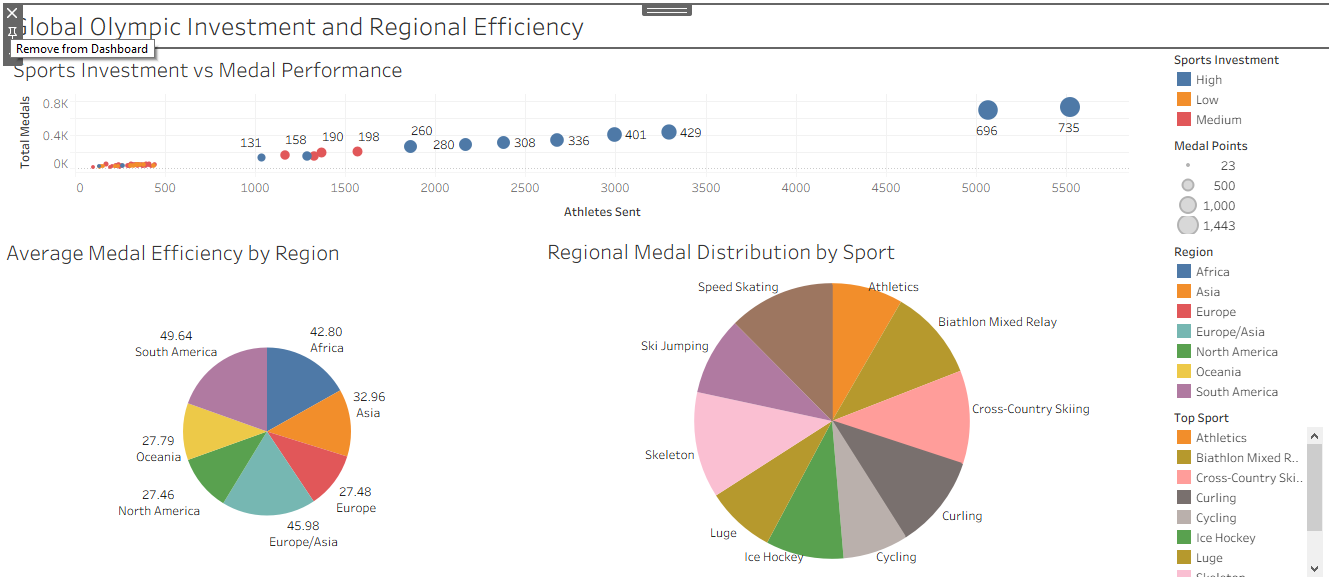

Layout of this report page (visuals, bound fields, positions):
{"tool":"tableau","page":{"name":"Global Olympic Investment and Regional Efficiency","canvas":[1000,1000],"units":"permille","ordinal":1},"visuals":[{"type":"title","box":[6.7,13.5,986.5,70.9]},{"type":"legend","title":"Sports Investment vs Medal Performance","param":"[federated.1xuazip0j6wt5410oi3vc1h66eq4].[none:sports_investment:nk]","box":[859.5,84.5,133.7,145.3]},{"type":"worksheet","title":"Sports Investment vs Medal Performance","mark":"Circle","rows":["total_medals"],"cols":["athletes_sent"],"box":[8.7,91.2,836.4,297.3]},{"type":"legend","title":"Sports Investment vs Medal Performance","param":"[federated.1xuazip0j6wt5410oi3vc1h66eq4].[sum:medal_points:qk]","box":[859.5,229.7,133.7,179.1]},{"type":"worksheet","title":"Regional Medal Distribution by Sport","mark":"Pie","box":[407.8,398.7,431.2,562.5]},{"type":"worksheet","title":"Average Medal Efficiency by Region","mark":"Pie","box":[3.5,400.3,395.7,594.6]},{"type":"legend","title":"Average Medal Efficiency by Region","param":"[federated.1xuazip0j6wt5410oi3vc1h66eq4].[none:region:nk]","box":[859.5,408.8,133.7,280.4]},{"type":"legend","title":"Regional Medal Distribution by Sport","param":"[federated.1xuazip0j6wt5410oi3vc1h66eq4].[none:top_sport:nk]","box":[859.5,689.2,133.7,297.3]}]}

Visuals, with their boxes on the dashboard's canvas, which has no fixed pixel size, in thousandths of its width and height (x1, y1, x2, y2). These are canvas units, not pixel positions in the 1329x587 screenshot, which may show the page scaled, cropped or inside an application window:
title: pyautogui.locateOnScreen(7, 14, 993, 84)
"Sports Investment vs Medal Performance" legend: pyautogui.locateOnScreen(860, 84, 993, 230)
"Sports Investment vs Medal Performance" worksheet (Circle marks): pyautogui.locateOnScreen(9, 91, 845, 388)
"Sports Investment vs Medal Performance" legend: pyautogui.locateOnScreen(860, 230, 993, 409)
"Regional Medal Distribution by Sport" worksheet (Pie marks): pyautogui.locateOnScreen(408, 399, 839, 961)
"Average Medal Efficiency by Region" worksheet (Pie marks): pyautogui.locateOnScreen(4, 400, 399, 995)
"Average Medal Efficiency by Region" legend: pyautogui.locateOnScreen(860, 409, 993, 689)
"Regional Medal Distribution by Sport" legend: pyautogui.locateOnScreen(860, 689, 993, 986)
